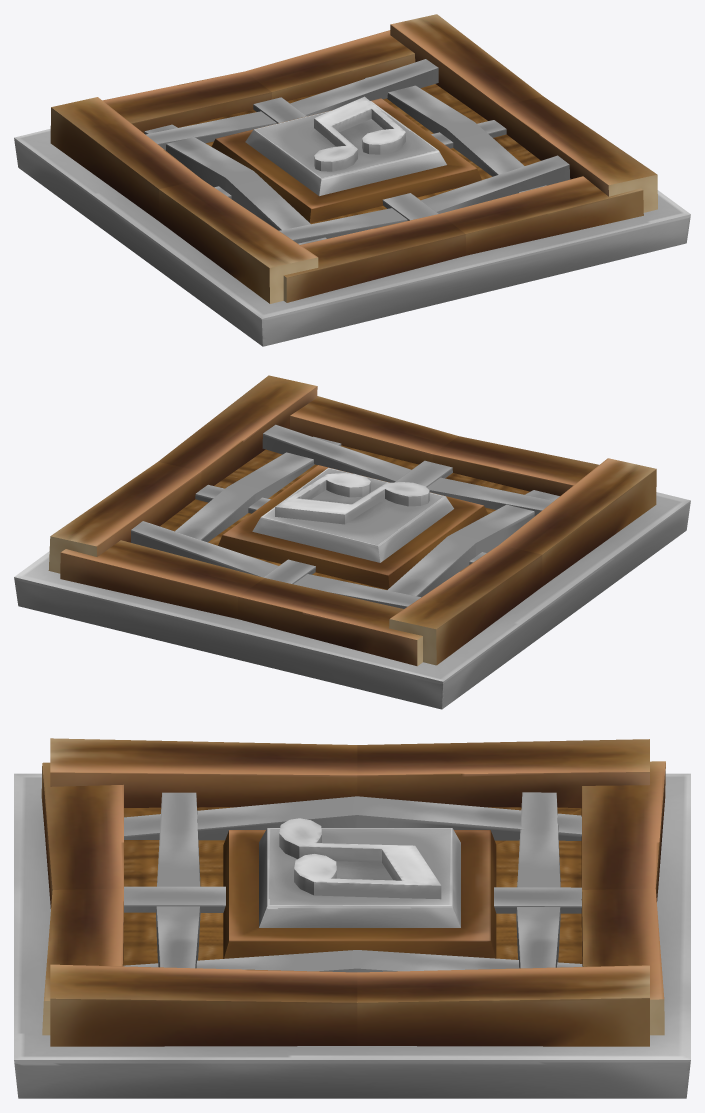
File: Caua_Altar.fbx
3 renders of one model, top to bottom at view 1: azimuth 30°, elevation 25°; view 2: azimuth 150°, elevation 25°; view 3: azimuth 270°, elevation 25°, orthographic. The views are drawn at different scales.
Visible parts, largest first — view 1: Caua_Altar_Model; view 2: Caua_Altar_Model; view 3: Caua_Altar_Model.
Part boxes in pixels (box(x1,y1,x2,y2)): Caua_Altar_Model: box(14, 14, 690, 346); Caua_Altar_Model: box(14, 375, 690, 709); Caua_Altar_Model: box(14, 738, 690, 1098).
Size of the model in its own units: 422 by 69.71 by 422.
Materials: 2 (2 with a texture image).
